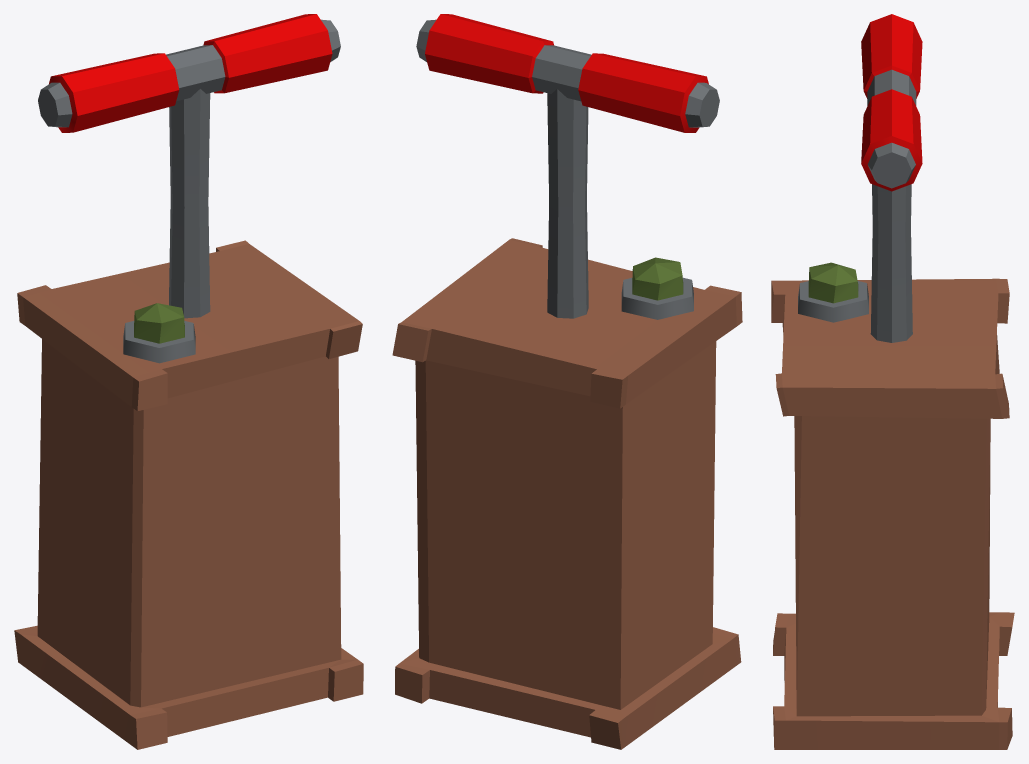
Rendered from LightWoodMechSmallDetonator1.fbx.
The picture shows the model from 3 angles, left to right: view 1: azimuth 30°, elevation 25°; view 2: azimuth 150°, elevation 25°; view 3: azimuth 270°, elevation 25°; orthographic projection. The views are drawn at different scales.
Parts seen in each view (by area): view 1: LightWoodMechSmallDetonator1, LightWoodMechSmallDetonator1Lever; view 2: LightWoodMechSmallDetonator1, LightWoodMechSmallDetonator1Lever; view 3: LightWoodMechSmallDetonator1, LightWoodMechSmallDetonator1Lever.
Part boxes in pixels (x1=…): LightWoodMechSmallDetonator1: x1=14, y1=240, x2=363, y2=749; LightWoodMechSmallDetonator1Lever: x1=38, y1=14, x2=340, y2=318; LightWoodMechSmallDetonator1: x1=392, y1=238, x2=742, y2=749; LightWoodMechSmallDetonator1Lever: x1=416, y1=14, x2=719, y2=318; LightWoodMechSmallDetonator1: x1=771, y1=262, x2=1014, y2=749; LightWoodMechSmallDetonator1Lever: x1=861, y1=14, x2=922, y2=342.
Size of the model in its own units: 80.1 by 171 by 60.94.
